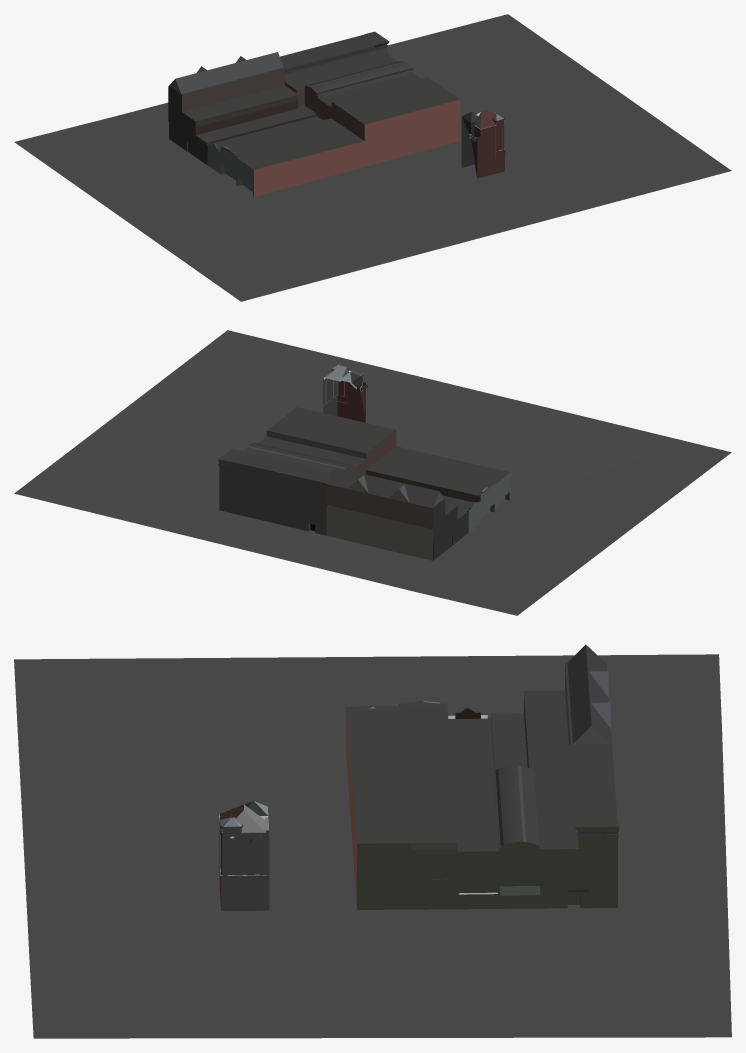
File: 800-block-between-market-and-broad.glb
3 renders of one model, top to bottom at view 1: azimuth 30°, elevation 25°; view 2: azimuth 150°, elevation 25°; view 3: azimuth 270°, elevation 25°, orthographic. The views are drawn at different scales.
Parts seen in each view (by area): view 1: LOD0; view 2: LOD0; view 3: LOD0.
Part boxes in pixels (box(x1,y1,x2,y2)): LOD0: box(14, 14, 731, 301); LOD0: box(14, 330, 731, 615); LOD0: box(14, 644, 731, 1038).
Size of what is drawn, in the model's own units: 146 by 18.18 by 112.
Materials: 2 (2 with a texture image).
